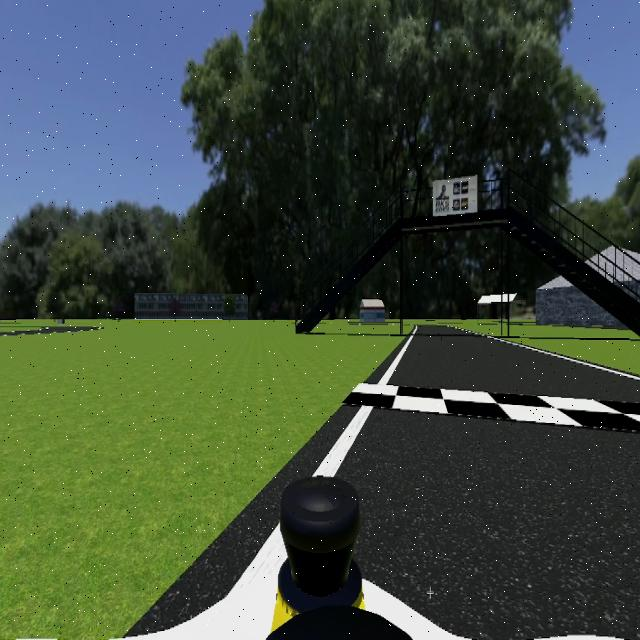finish: (345, 383, 640, 433)
road: (336, 410, 640, 640), (392, 328, 640, 402)
solid_line: (485, 336, 640, 382), (314, 407, 372, 477), (377, 324, 419, 385)
